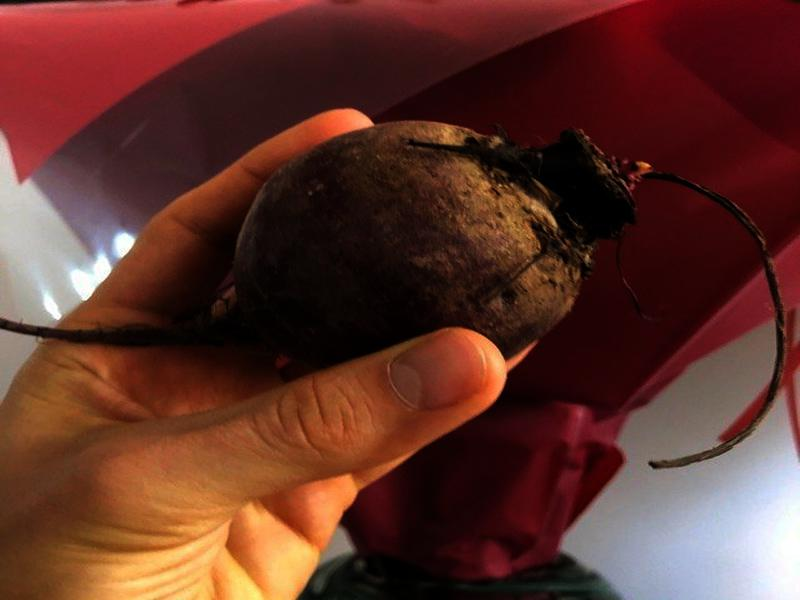Beet: (2, 120, 788, 468)
